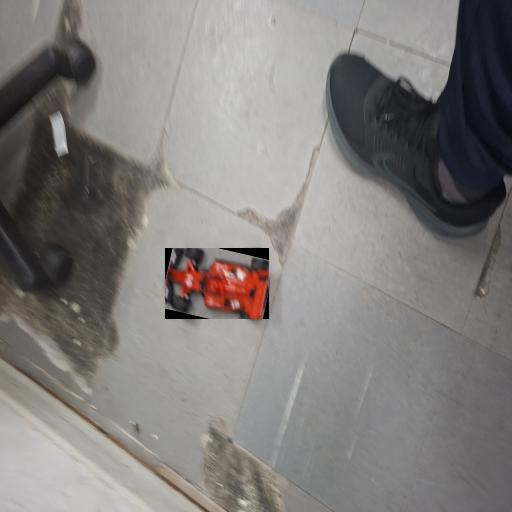carro: (166, 249, 268, 318)
